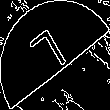L_SE: (31, 25, 79, 85)
